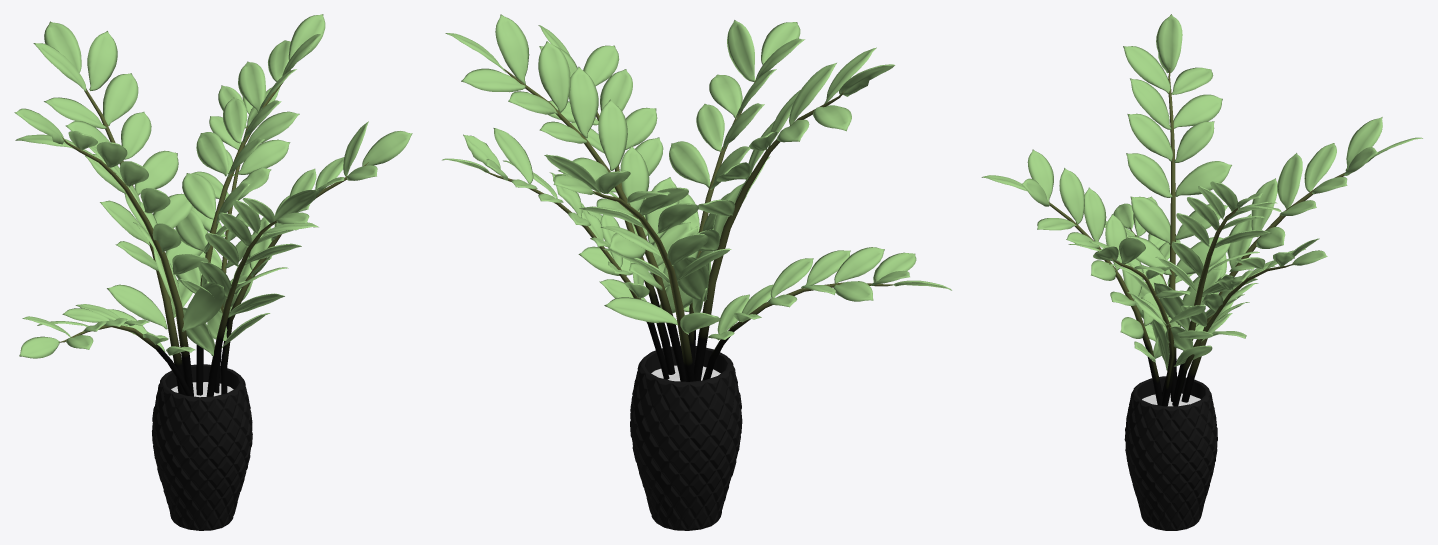
The model's file is Zamioculcas.fbx.
The picture shows the model from 3 angles, left to right: view 1: azimuth 30°, elevation 25°; view 2: azimuth 150°, elevation 25°; view 3: azimuth 270°, elevation 25°; orthographic projection. The views are drawn at different scales.
Parts seen in each view (by area): view 1: Plant_Zamioculcas_A_spring-summer-autumn.001, Vase_Diamond-Pattern-Glazed-Ceramics_B_spring-summer-autumn.; view 2: Plant_Zamioculcas_A_spring-summer-autumn.001, Vase_Diamond-Pattern-Glazed-Ceramics_B_spring-summer-autumn.; view 3: Plant_Zamioculcas_A_spring-summer-autumn.001, Vase_Diamond-Pattern-Glazed-Ceramics_B_spring-summer-autumn..
Part boxes in pixels (x1,y1,x2,y2): Plant_Zamioculcas_A_spring-summer-autumn.001: [14, 14, 412, 396]; Vase_Diamond-Pattern-Glazed-Ceramics_B_spring-summer-autumn.: [152, 364, 252, 530]; Plant_Zamioculcas_A_spring-summer-autumn.001: [442, 14, 951, 381]; Vase_Diamond-Pattern-Glazed-Ceramics_B_spring-summer-autumn.: [630, 346, 742, 530]; Plant_Zamioculcas_A_spring-summer-autumn.001: [981, 14, 1422, 406]; Vase_Diamond-Pattern-Glazed-Ceramics_B_spring-summer-autumn.: [1124, 376, 1217, 530].
Size of the model in its own units: 87.57 by 98.7 by 94.26.
